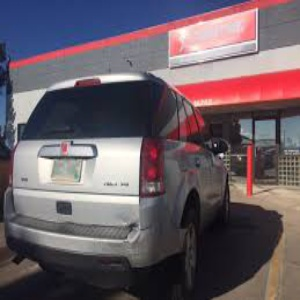bumper: (82, 203, 171, 271)
